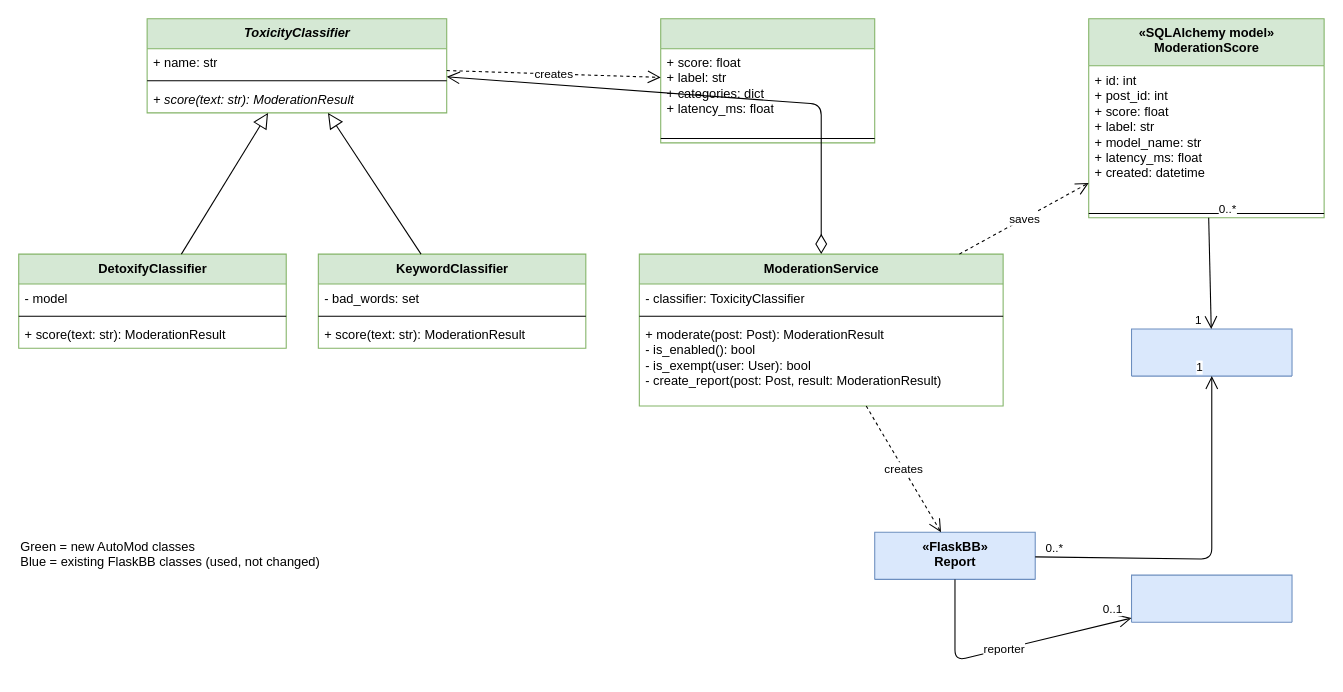
The diagram is 1343 pixels wide and 692 high, and some of its shapes have lost their labels. The shapes that lost their labels are listed below. From the top down, each one's box as (x1, y1, x2, y2) in pixels, then its label:
(660, 18, 875, 143): ModerationResult
(1130, 328, 1292, 376): «FlaskBB» Post
(1130, 574, 1292, 622): «FlaskBB» User
